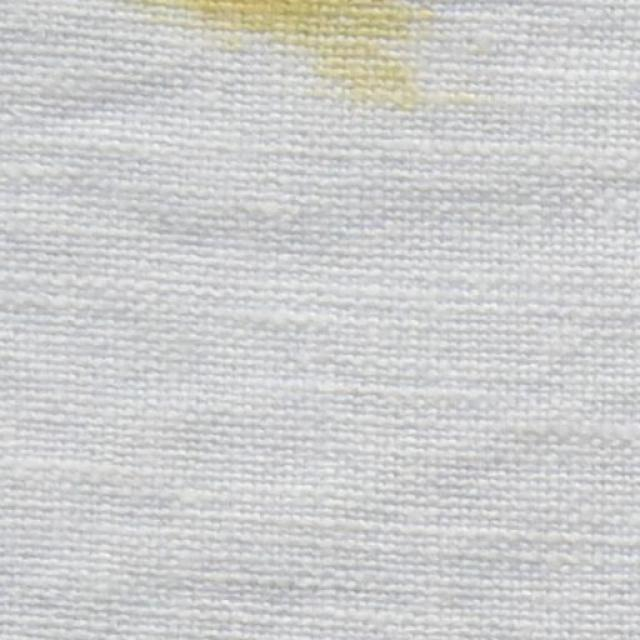Stain: (130, 0, 433, 109)
